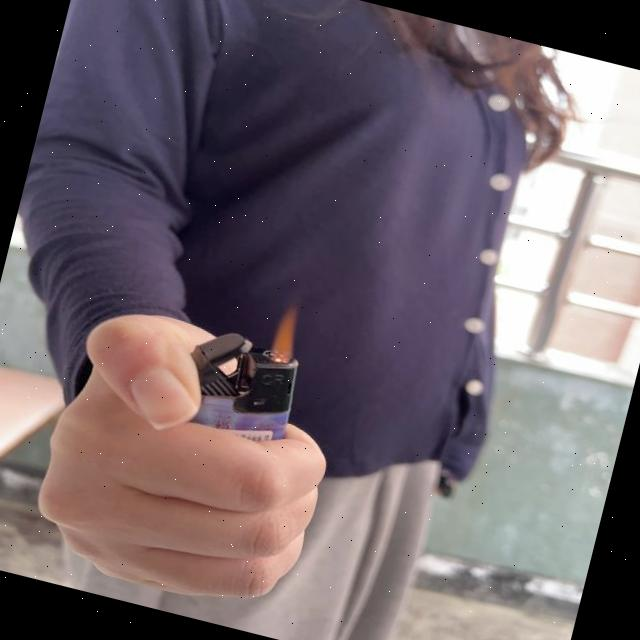fire: (262, 296, 306, 368)
